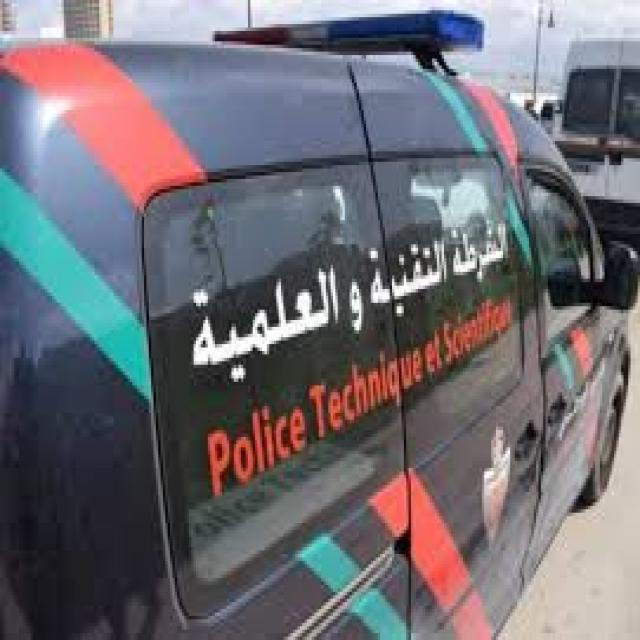police: (6, 10, 632, 632)
